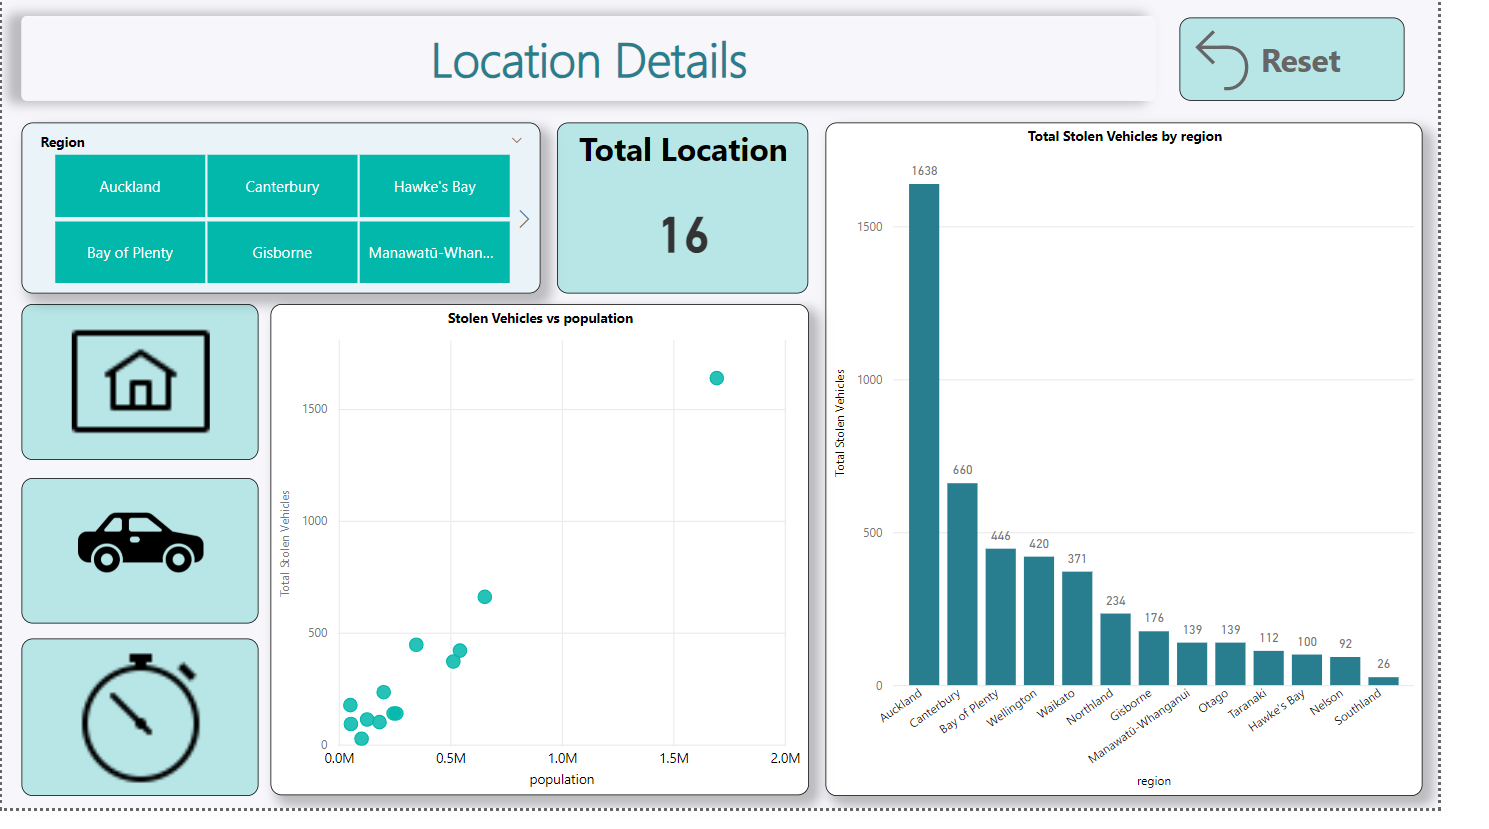

The page's visual inventory and layout, read from the dashboard file:
{"tool":"powerbi","page":{"name":"location _dash","canvas":[1276,720],"ordinal":16},"visuals":[{"type":"textbox","box":[16.9,15.4,1007.7,75.4],"z":0},{"type":"columnChart","fields":{"Category":["locations.region"],"Y":["Measures_Table.Total Stolen Vehicles"]},"box":[732.3,110.8,530.8,598.5],"z":1000},{"type":"card","title":"Total Location","fields":{"Values":["CountNonNull(locations.location_id)"]},"box":[493.8,110.8,223.1,152.3],"z":2000},{"type":"slicer","fields":{"Values":["locations.region"]},"box":[16.9,110.8,461.5,152.3],"z":3000},{"type":"scatterChart","title":"Stolen Vehicles vs population","fields":{"Y":["Measures_Table.Total Stolen Vehicles"],"X":["locations.population"]},"box":[238.5,272.3,478.5,436.9],"z":4000},{"type":"actionButton","title":"reset","box":[1046.2,16.9,200,73.8],"z":5000},{"type":"image","title":"home","box":[16.9,272.3,210.8,138.5],"z":6000},{"type":"image","title":"time","box":[16.9,569.2,210.8,140],"z":7000},{"type":"image","title":"vehicle","box":[16.9,426.2,210.8,129.2],"z":8000}]}

Visuals, with their boxes in screenshot pixels (x1, y1, x2, y2), scaled from the page's 1276x720 canvas onto the 1489x829 screenshot:
textbox: [left=20, top=18, right=1196, bottom=105]
columnChart - locations.region x Measures_Table.Total Stolen Vehicles: [left=855, top=128, right=1474, bottom=817]
"Total Location" card: [left=576, top=128, right=837, bottom=303]
slicer - locations.region: [left=20, top=128, right=558, bottom=303]
"Stolen Vehicles vs population" scatterChart: [left=278, top=314, right=837, bottom=817]
"reset" actionButton: [left=1221, top=19, right=1454, bottom=104]
"home" image: [left=20, top=314, right=266, bottom=473]
"time" image: [left=20, top=655, right=266, bottom=817]
"vehicle" image: [left=20, top=491, right=266, bottom=639]
